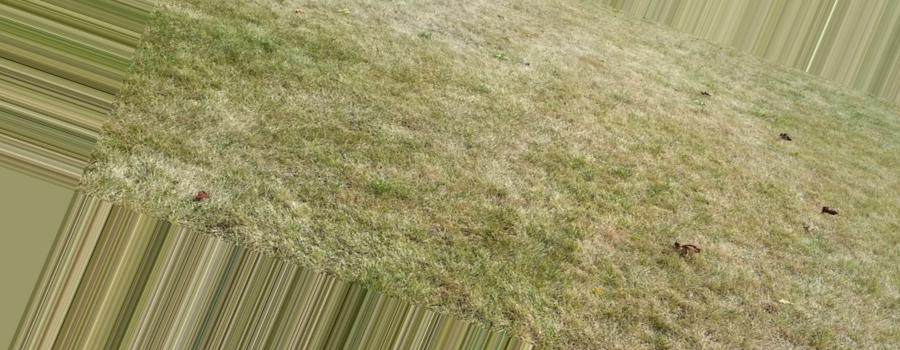patch: (353, 202, 586, 299), (547, 36, 709, 165), (351, 61, 532, 161), (141, 100, 281, 211), (622, 216, 741, 295), (772, 166, 853, 237), (273, 25, 331, 50)
